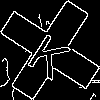K: (25, 25, 78, 81)
